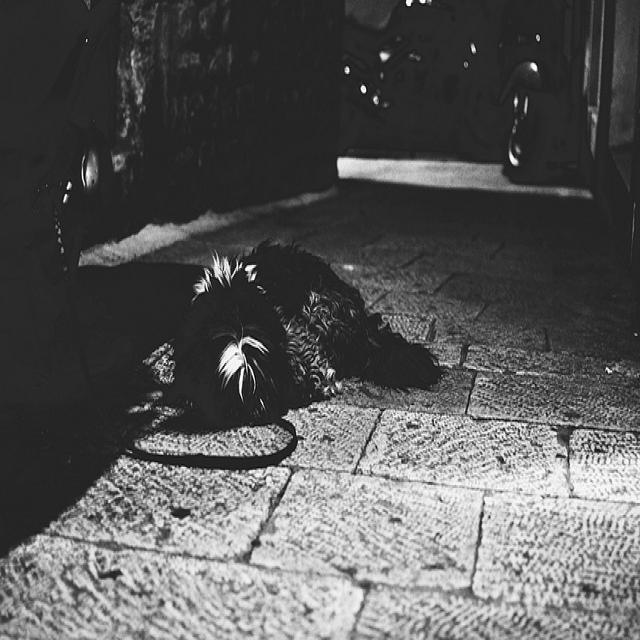Dog: (125, 205, 470, 472)
Motorbike: (344, 7, 610, 184)
